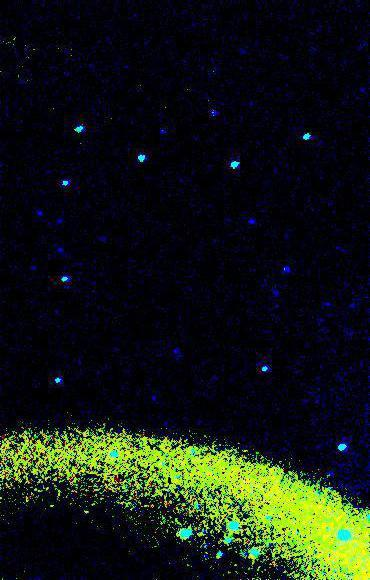star: (150, 120, 180, 150)
